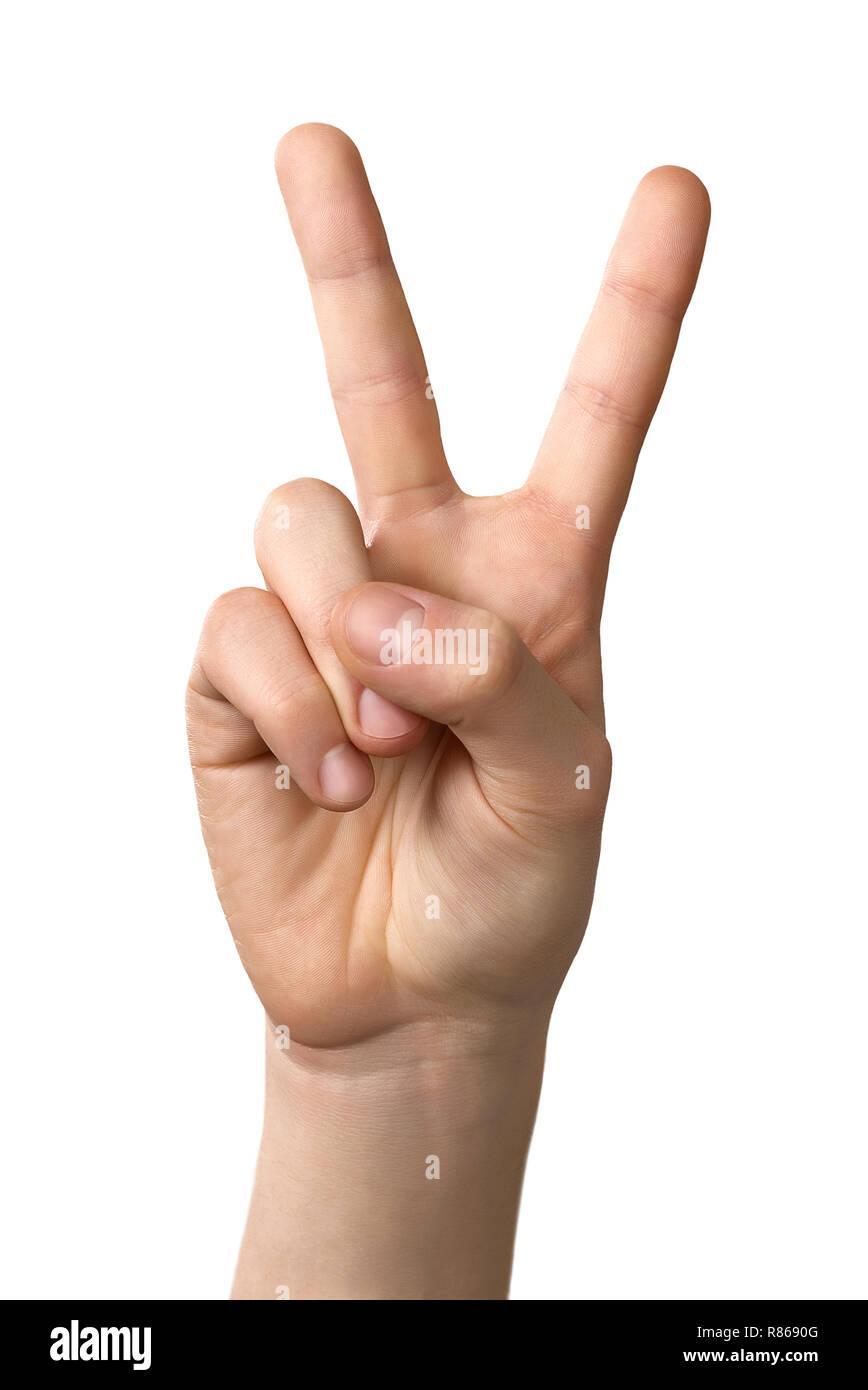peace_sign: (151, 118, 746, 1073)
